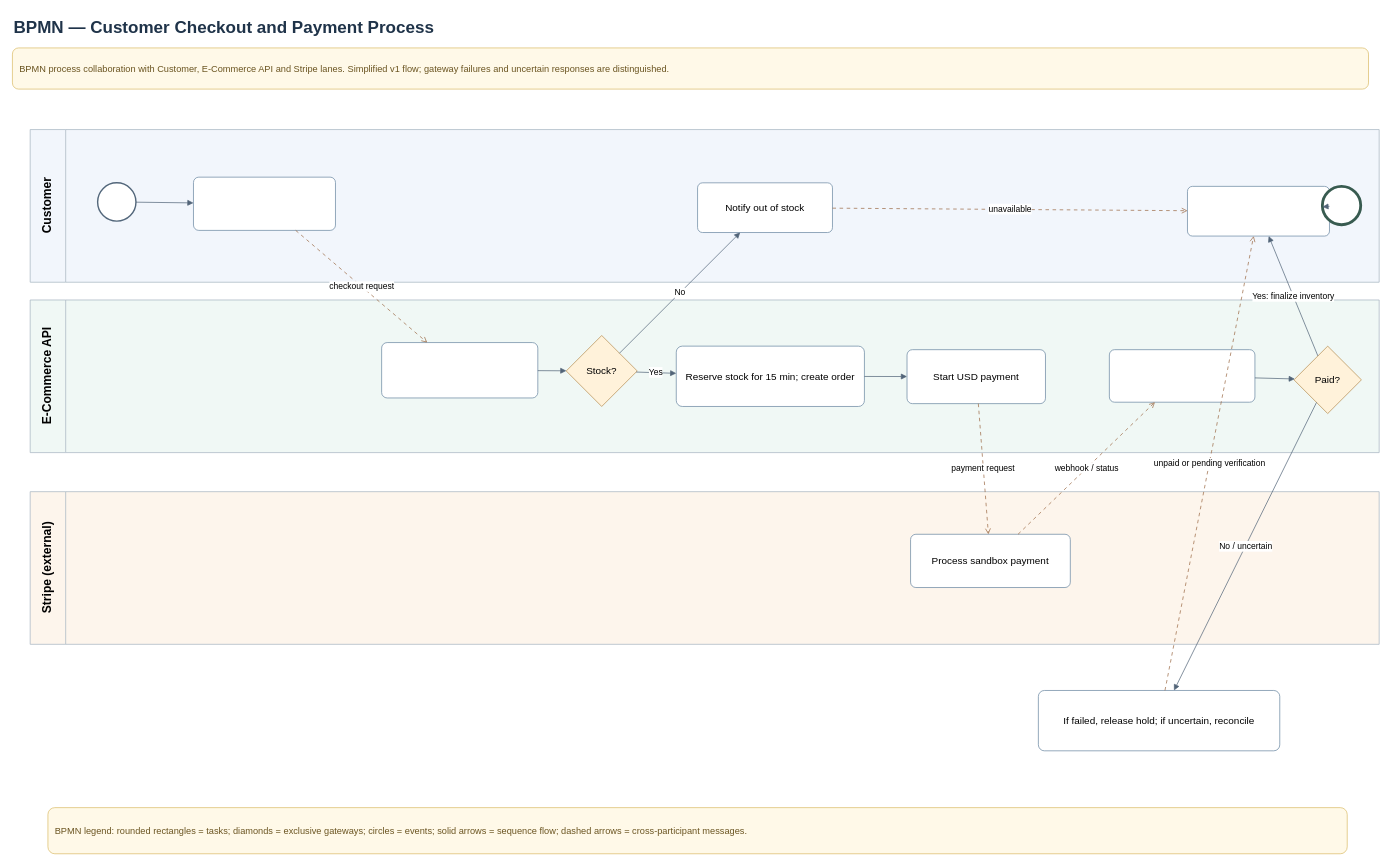
The diagram is 1392 pixels wide and 866 high, and some of its shapes have lost their labels. Here are the shapes that lost their labels. From the top down, the centre of each, then its label:
the point at 116,202: Start
the point at 264,203: Submit cart for checkout
the point at 1258,211: Show purchase result
the point at 1341,205: End
the point at 459,370: Validate cart and stock
the point at 1182,375: Verify gateway result
